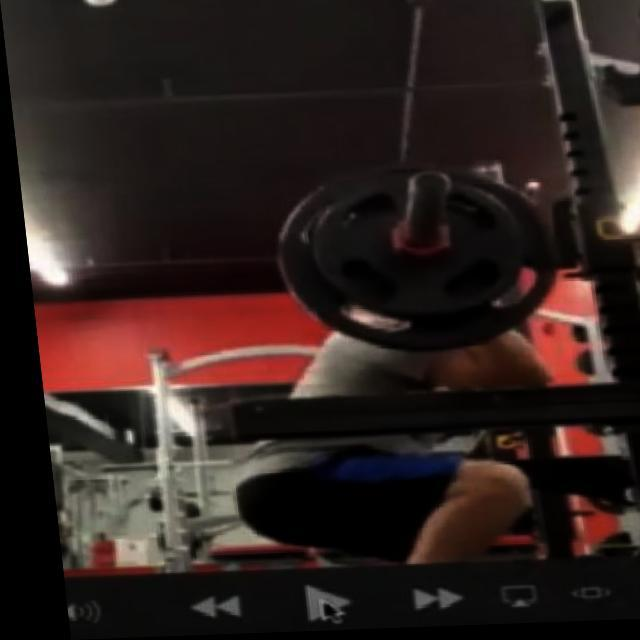barbell: (257, 158, 561, 361)
